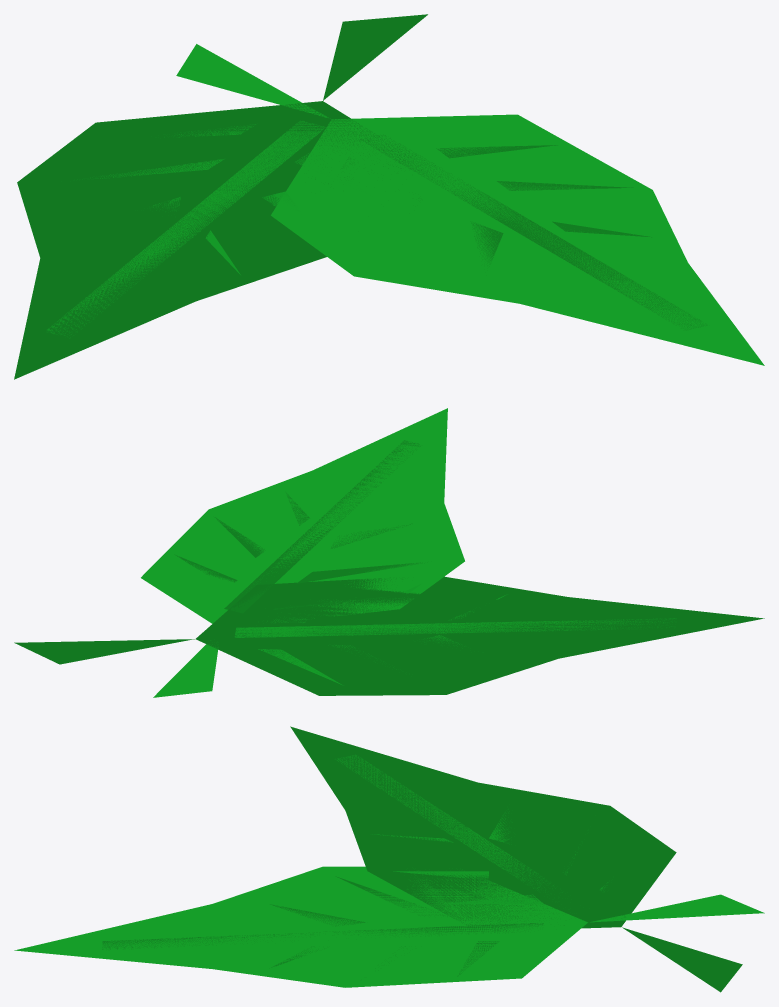
The model's file is inv_woad_leaf.obj.
3 views of the same model, one above another, from view 1: azimuth 30°, elevation 25°; view 2: azimuth 150°, elevation 25°; view 3: azimuth 270°, elevation 25° (orthographic). The views are drawn at different scales.
Bounding box in the file's own units: 0.4453 × 0 × 0.5312.
